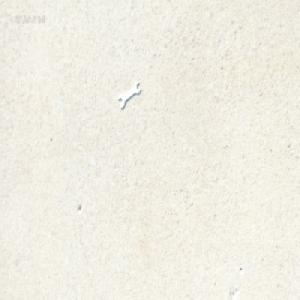Wrench: (118, 80, 140, 108)
